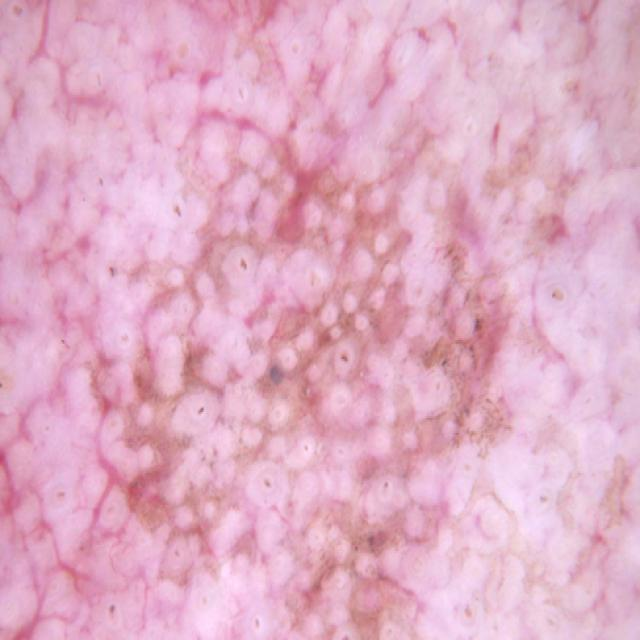Melanoma: (76, 99, 569, 640)
